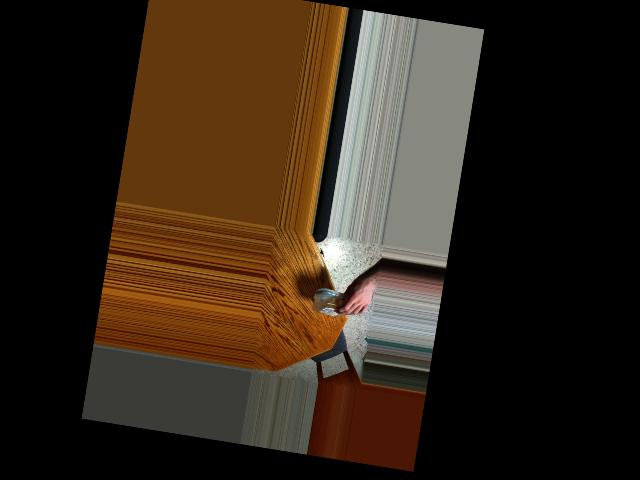cheese: (309, 270, 355, 327)
